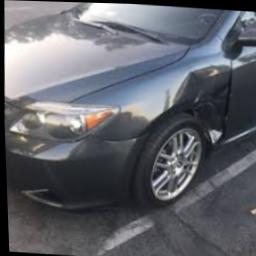Fender: (149, 43, 229, 141)
